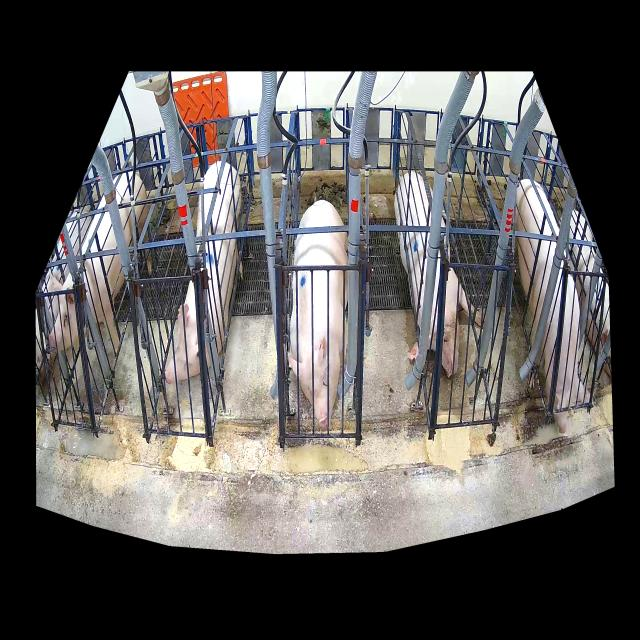pig: (50, 172, 152, 354), (395, 172, 482, 378), (514, 179, 584, 434), (165, 161, 241, 384), (290, 200, 348, 430)
